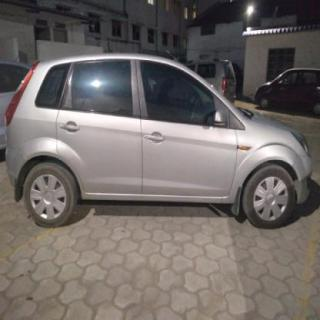Normal_vehicle: (5, 53, 311, 228)
